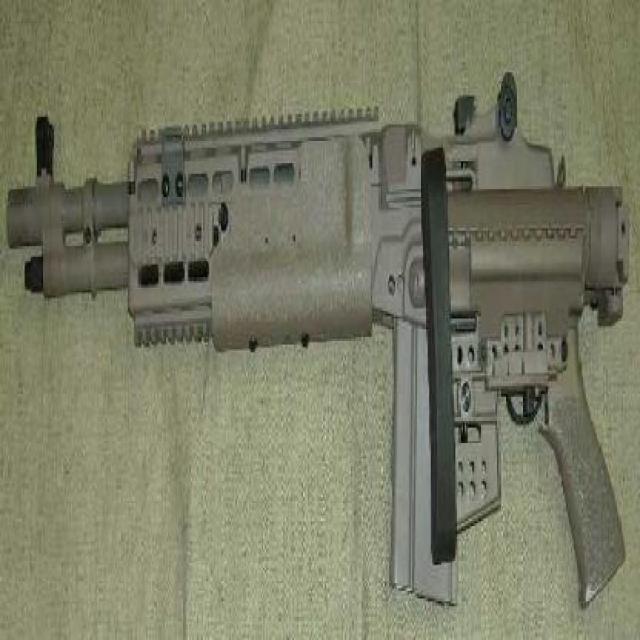weapon: (18, 110, 632, 591)
